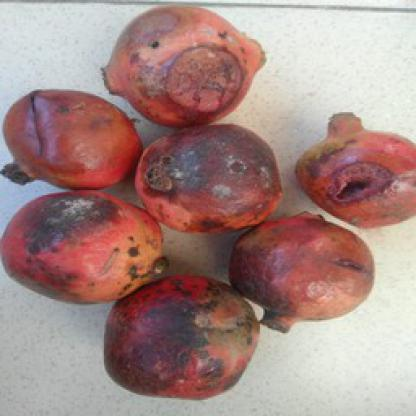pomegranate_rotten: (99, 271, 263, 400), (98, 3, 268, 127), (0, 190, 169, 306), (229, 213, 375, 331), (132, 122, 282, 234), (0, 79, 142, 192), (292, 109, 415, 228)
